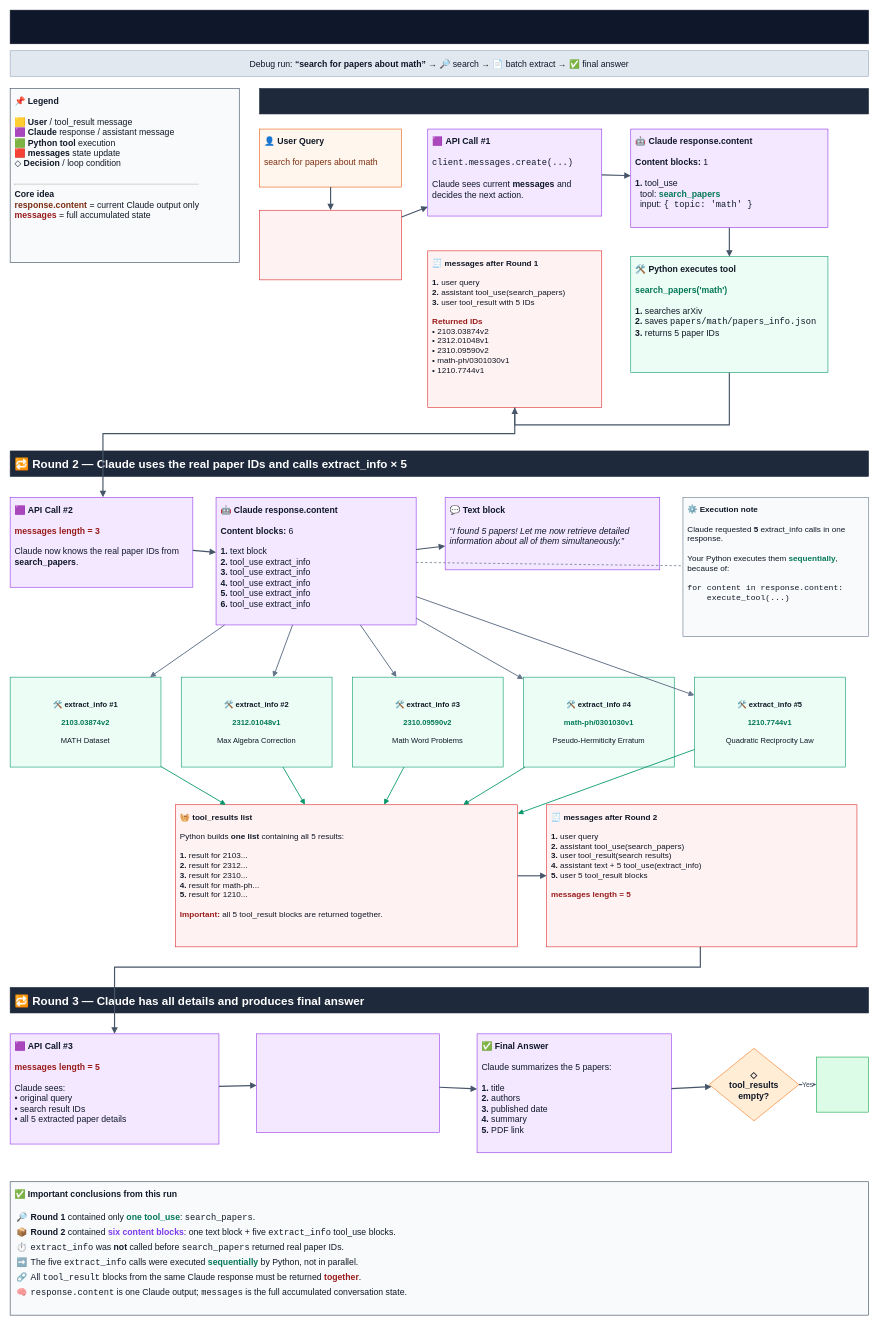
This 879x1325 diagram has some shape labels left out. Here are the shapes that lost their labels. From the top down, the centre of each, then its label:
At [439,27]: "🧠 Anthropic Tool Calling Agent Loop".
At [564,101]: "🔁 Round 1 — Claude calls only search_papers".
At [330,245]: "🧾 messages before call 1. user query messages length = 1".
At [347,1082]: "🤖 Claude response.content Content blocks: 1 1. text only No tool_use blocks".
At [842,1084]: "🏁 End Loop break".
